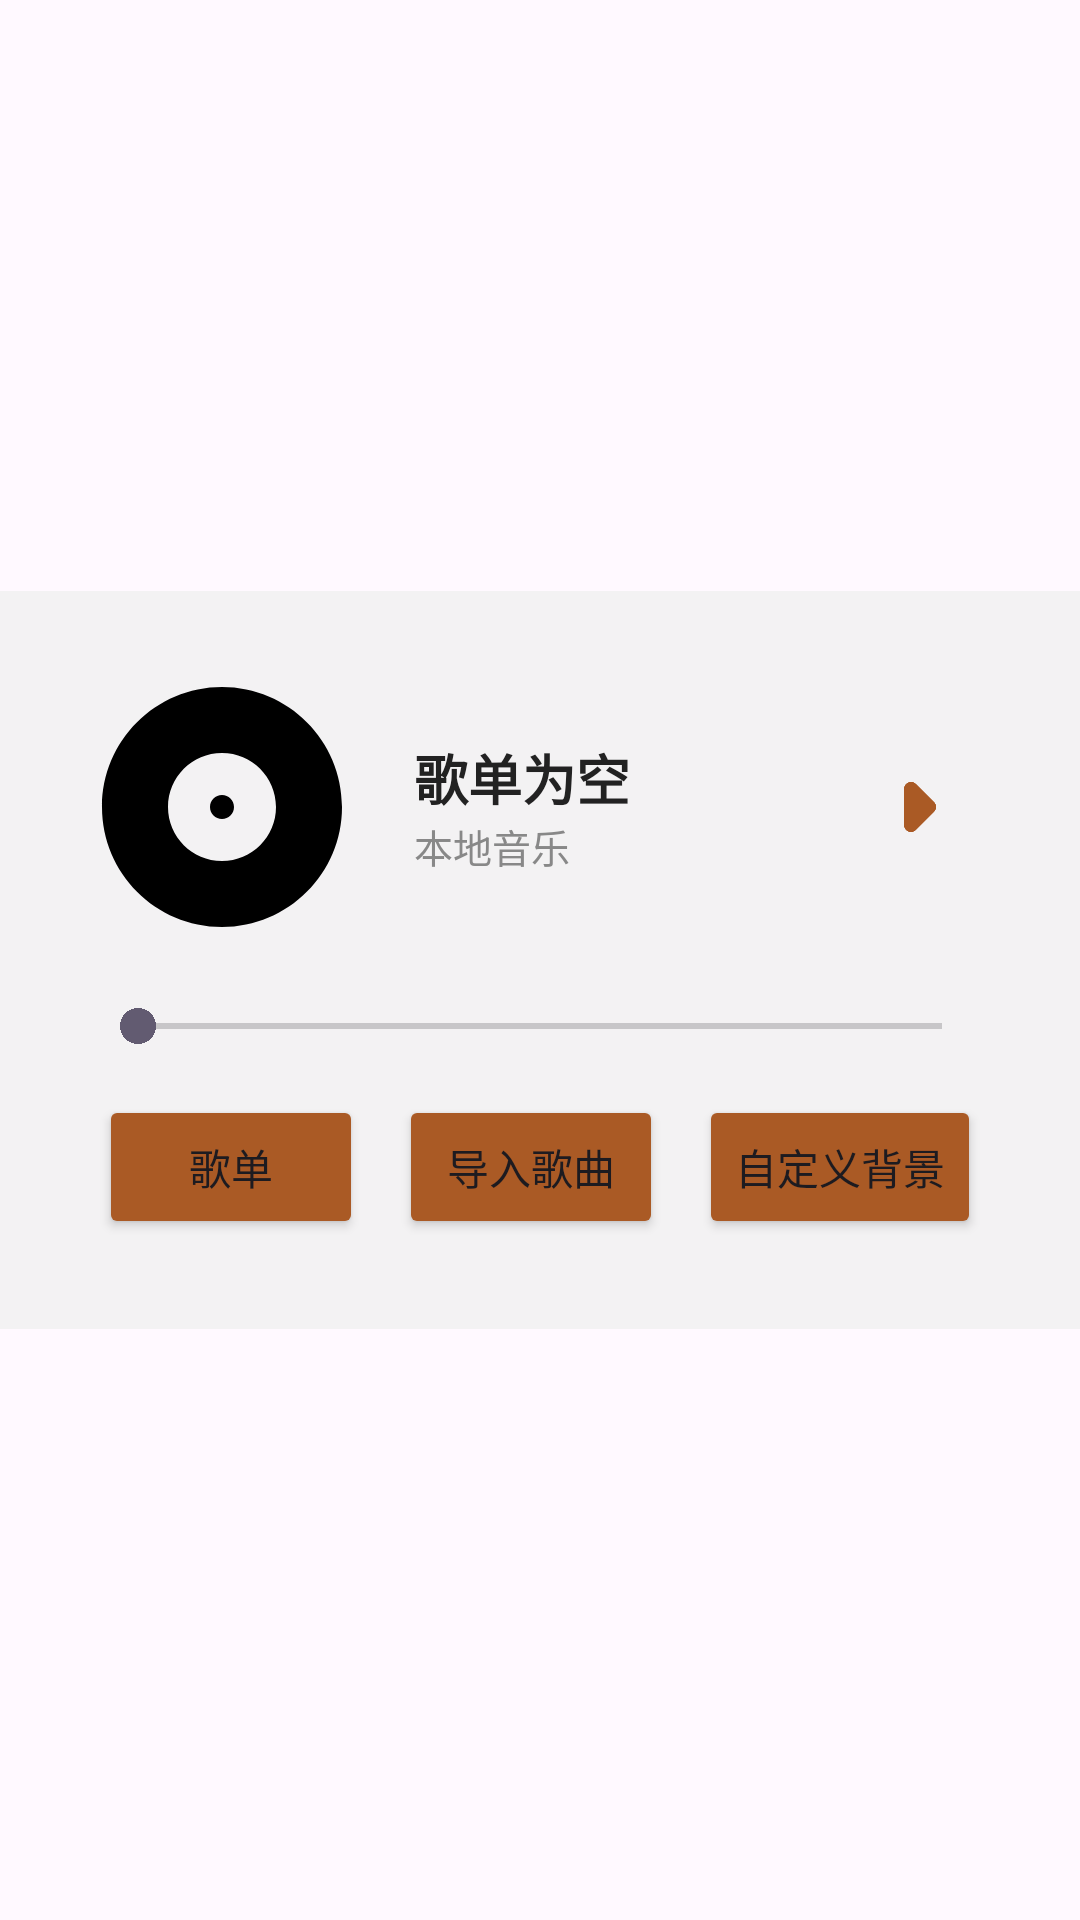

Icons on this 1080 x 1920 Android screen, each with its box as (x1, y1, x2, y2):
arrow right: (904, 782, 936, 832)
disc: (102, 687, 342, 927)
